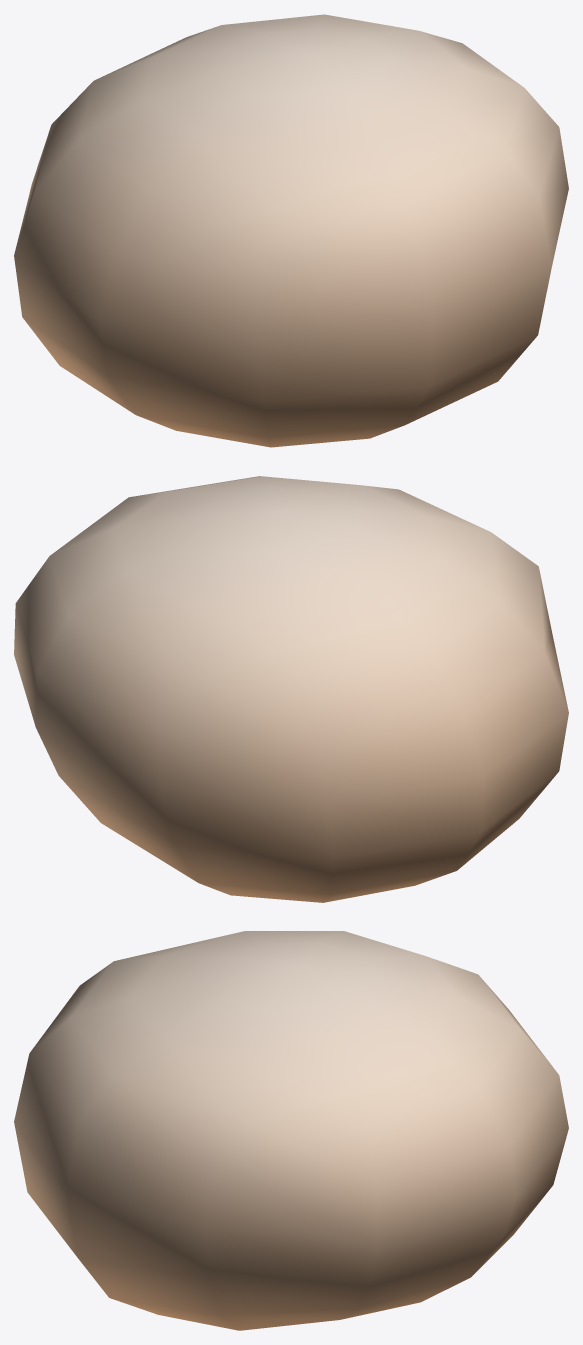
The model's file is Modza.fbx.
The picture shows the model from 3 angles, top to bottom: view 1: azimuth 30°, elevation 25°; view 2: azimuth 150°, elevation 25°; view 3: azimuth 270°, elevation 25°; orthographic projection.
Visible parts, largest first — view 1: Sphere; view 2: Sphere; view 3: Sphere.
Boxes of the visible parts, x1=… form: Sphere: x1=14, y1=14, x2=568, y2=447; Sphere: x1=14, y1=476, x2=568, y2=902; Sphere: x1=14, y1=931, x2=568, y2=1330.
Bounding box in the file's own units: 57.63 × 39.47 × 58.89.
